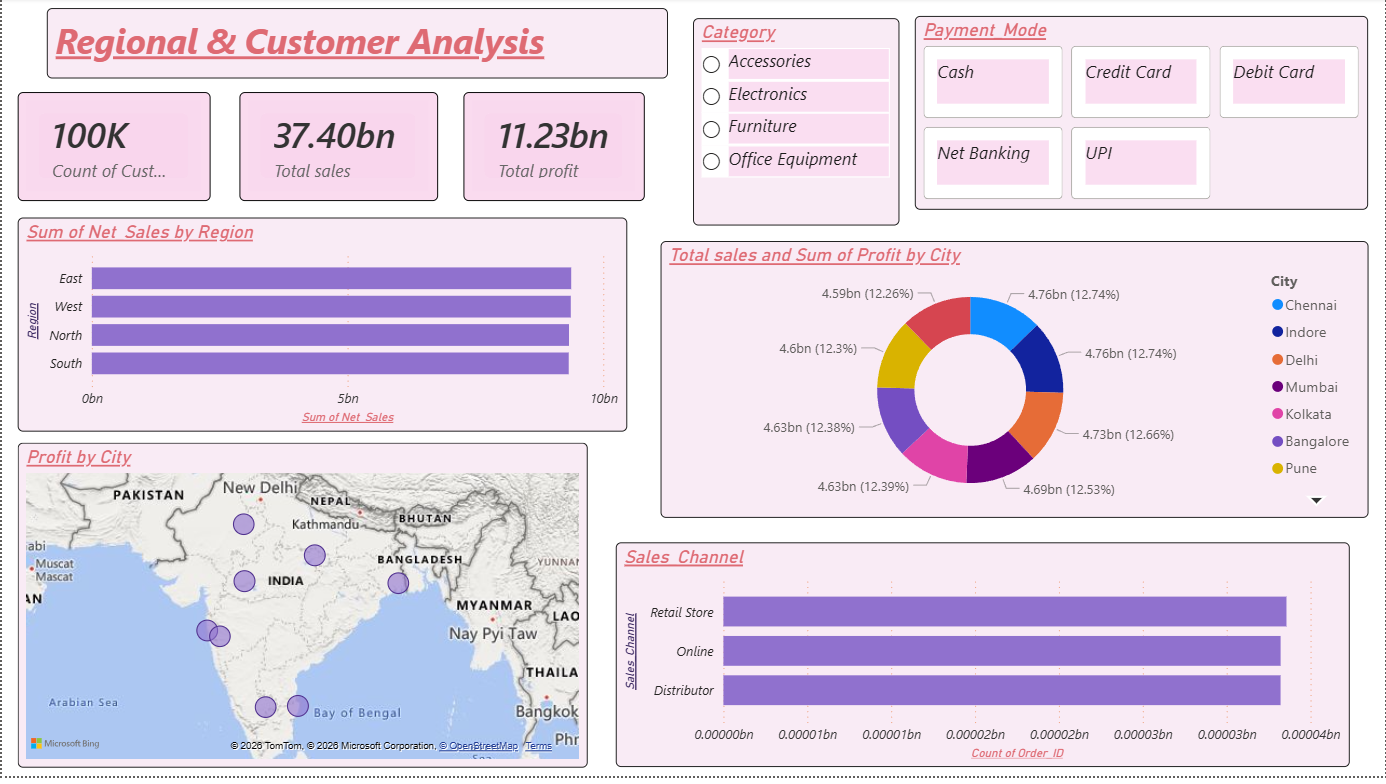

Layout of this report page (visuals, bound fields, positions):
{"tool":"powerbi","page":{"name":"Page 3","canvas":[1280,720],"ordinal":2},"visuals":[{"type":"textbox","box":[41.5,9.3,575.4,65.3],"z":0},{"type":"cardVisual","fields":{"Data":["CountNonNull(Sales_data_book.Customer_ID)"]},"box":[14.5,87.1,178.3,100.6],"z":1000},{"type":"cardVisual","fields":{"Data":["Sales_data_book.Total sales"]},"box":[219.8,87.1,183.5,100.6],"z":2000},{"type":"listSlicer","fields":{"Values":["Sales_data_book.Category"]},"box":[639.7,18.7,190.8,191.8],"z":3000},{"type":"advancedSlicerVisual","fields":{"Values":["Sales_data_book.Payment_Mode"]},"box":[845,16.6,419.9,179.4],"z":4000},{"type":"cardVisual","fields":{"Data":["Sales_data_book.Total profit"]},"box":[427.1,87.1,168,100.6],"z":5000},{"type":"map","title":"Profit by City","fields":{"Size":["Sum(Sales_data_book.Net_Sales)"],"Category":["Sales_data_book.City"]},"box":[14.5,411.6,527.7,300.7],"z":6000},{"type":"barChart","fields":{"Category":["Sales_data_book.Region"],"Y":["Sum(Sales_data_book.Net_Sales)"]},"box":[14.5,203.2,564,198],"z":7000},{"type":"donutChart","fields":{"Y":["Sales_data_book.Total sales"],"Category":["Sales_data_book.City"]},"box":[609.6,225,655.2,256.1],"z":8000},{"type":"barChart","title":"Sales_Channel","fields":{"Category":["Sales_data_book.Sales_Channel"],"Y":["CountNonNull(Sales_data_book.Order_ID)"]},"box":[568.1,503.9,679.1,208.4],"z":9000}]}

Visuals, with their boxes in screenshot pixels (x1, y1, x2, y2), scaled from the page's 1280x720 canvas onto the 1386x784 screenshot:
textbox: left=45, top=10, right=668, bottom=81
cardVisual - CountNonNull(Sales_data_book.Customer_ID): left=16, top=95, right=209, bottom=204
cardVisual - Sales_data_book.Total sales: left=238, top=95, right=437, bottom=204
listSlicer - Sales_data_book.Category: left=693, top=20, right=899, bottom=229
advancedSlicerVisual - Sales_data_book.Payment_Mode: left=915, top=18, right=1370, bottom=213
cardVisual - Sales_data_book.Total profit: left=462, top=95, right=644, bottom=204
"Profit by City" map: left=16, top=448, right=587, bottom=776
barChart - Sales_data_book.Region x Sum(Sales_data_book.Net_Sales): left=16, top=221, right=626, bottom=437
donutChart - Sales_data_book.Total sales x Sales_data_book.City: left=660, top=245, right=1370, bottom=524
"Sales_Channel" barChart: left=615, top=549, right=1350, bottom=776
